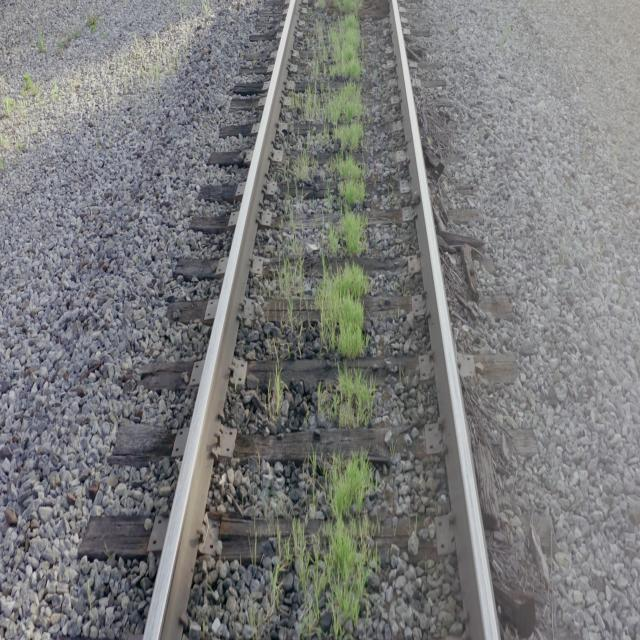Plant: (281, 0, 368, 262), (280, 456, 371, 638), (311, 264, 374, 429), (275, 231, 310, 300), (269, 373, 285, 422)
